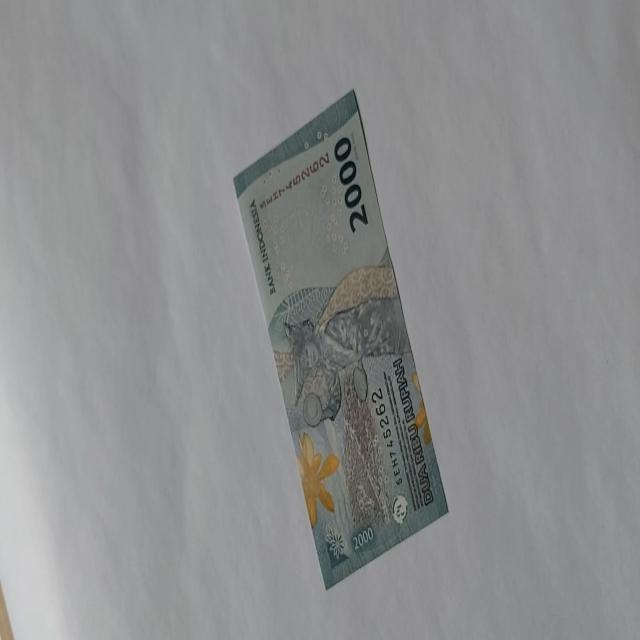dua ribu rupiah: (232, 87, 448, 589), (271, 263, 408, 429)
